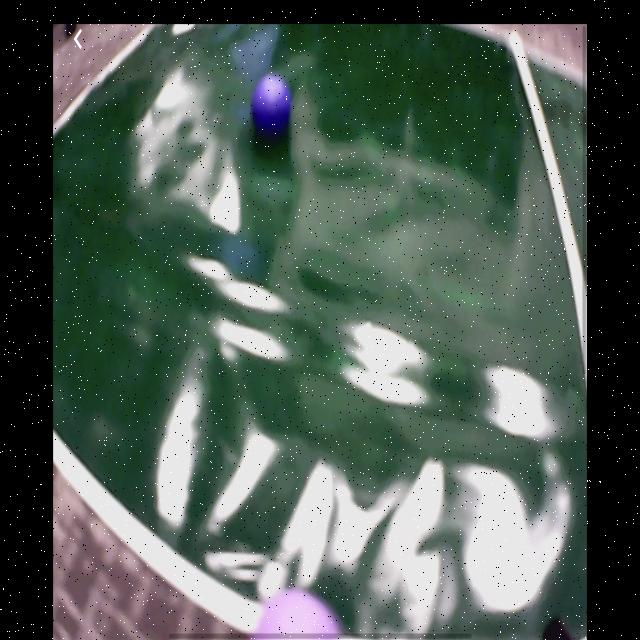ball: (254, 587, 344, 640), (253, 76, 293, 131)
